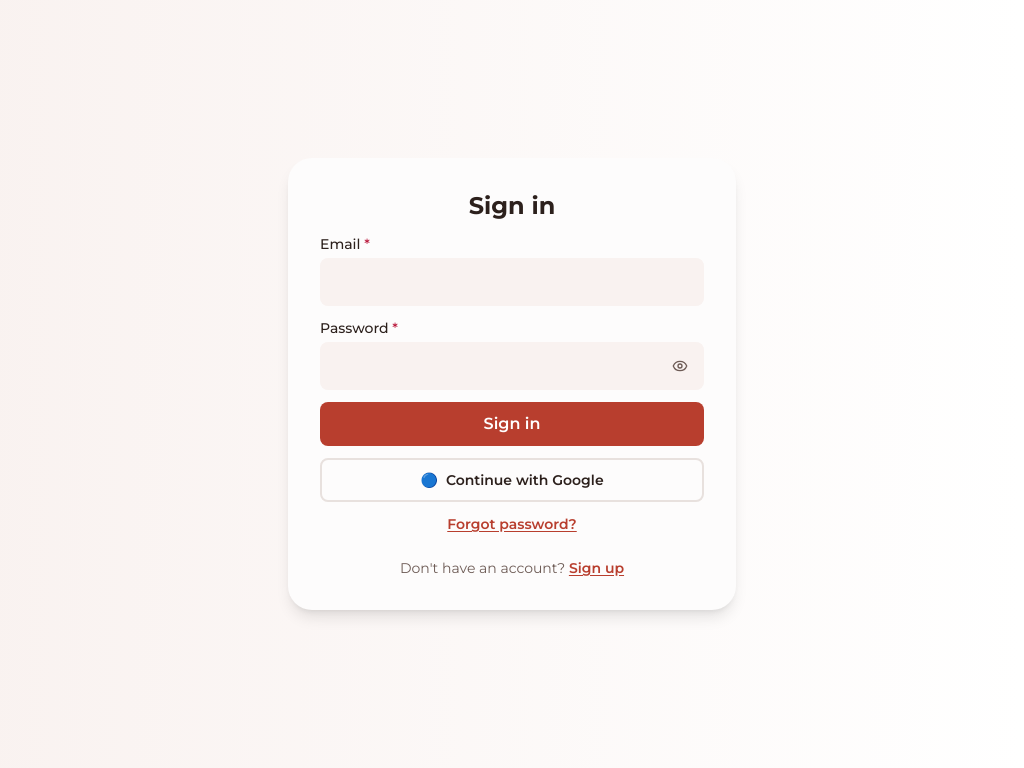
Test: checking what was typed › reports an empty form field by field
Click the button "Sign in": (512, 424) 320,402 -> 704,446
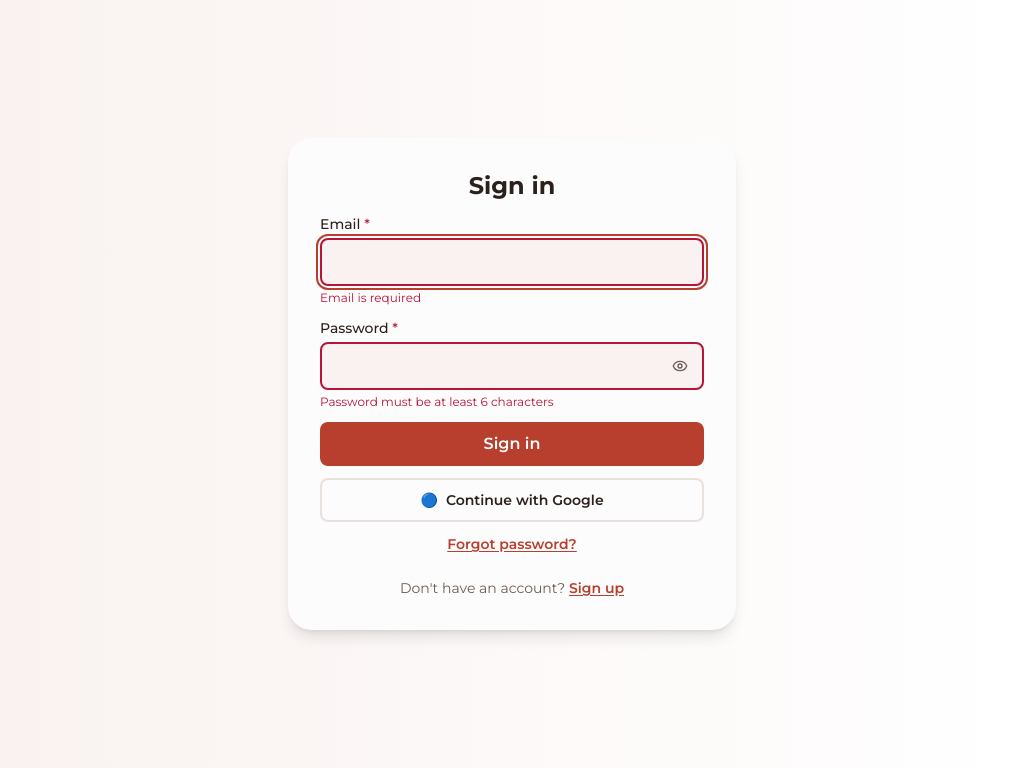
Expected: the text "Email is required" is shown, 320,290 -> 421,305
Expected: the text "Password must be at least 6 characters" is shown, 320,394 -> 554,409
